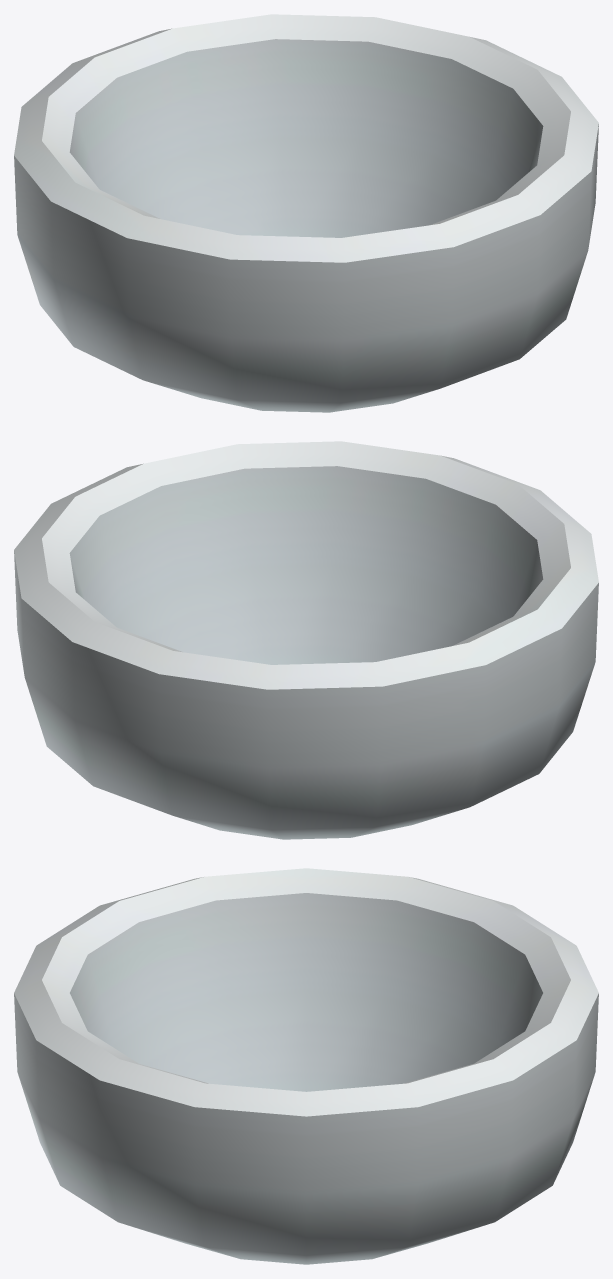
The model's file is kaykit-restaurant-bits-bowl-small.glb.
3 views of the same model, one above another, from view 1: azimuth 30°, elevation 25°; view 2: azimuth 150°, elevation 25°; view 3: azimuth 270°, elevation 25° (orthographic).
Visible parts, largest first — view 1: bowl_small; view 2: bowl_small; view 3: bowl_small.
Part boxes in pixels (x1=…): bowl_small: x1=14, y1=14, x2=598, y2=412; bowl_small: x1=14, y1=441, x2=598, y2=839; bowl_small: x1=14, y1=868, x2=598, y2=1264.
Bounding box in the file's own units: 0.75 × 0.3 × 0.75.
1 material, 1 textured.
